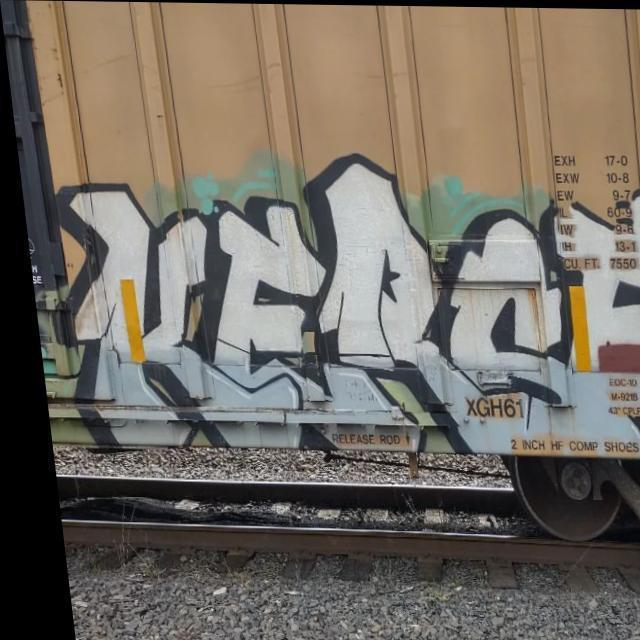nonspitting: (66, 165, 640, 448)
